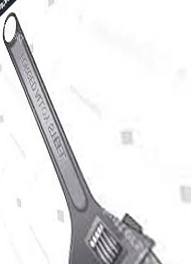Wrench: (1, 13, 169, 264)
